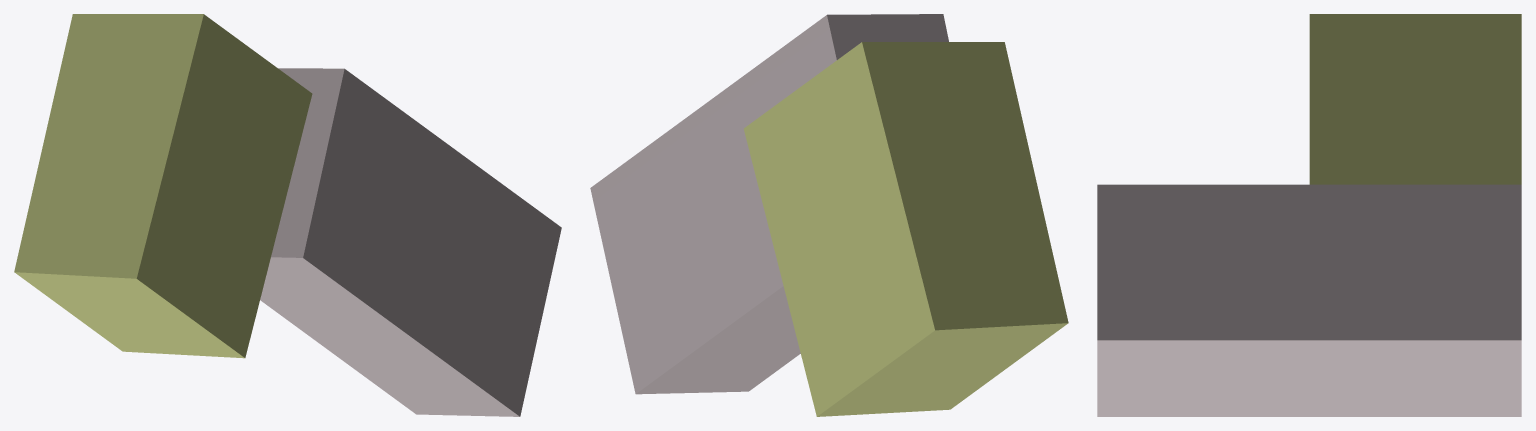
3 renders of one model, left to right at view 1: azimuth 30°, elevation 25°; view 2: azimuth 150°, elevation 25°; view 3: azimuth 270°, elevation 25°, orthographic. The views are drawn at different scales.
Parts seen in each view (by area): view 1: 0_1_2_0_1_3_0_2_3_1_3; view 2: 0_1_2_0_1_3_0_2_3_1_3; view 3: 0_1_2_0_1_3_0_2_3_1_3.
Boxes of the visible parts, box(x1,y1,x2,y2) form: 0_1_2_0_1_3_0_2_3_1_3: box(14, 14, 561, 416); 0_1_2_0_1_3_0_2_3_1_3: box(590, 14, 1068, 416); 0_1_2_0_1_3_0_2_3_1_3: box(1097, 14, 1521, 416).
Size of the model in its own units: 10.54 by 9.15 by 12.
